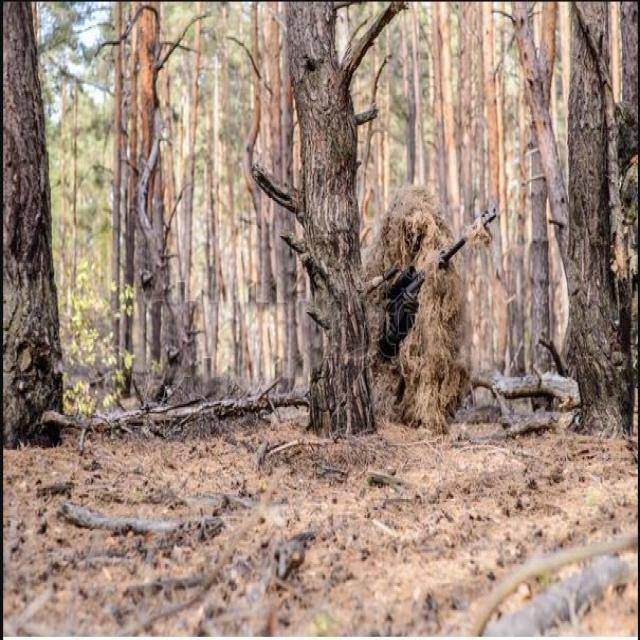Camouflage: (361, 183, 500, 428)
